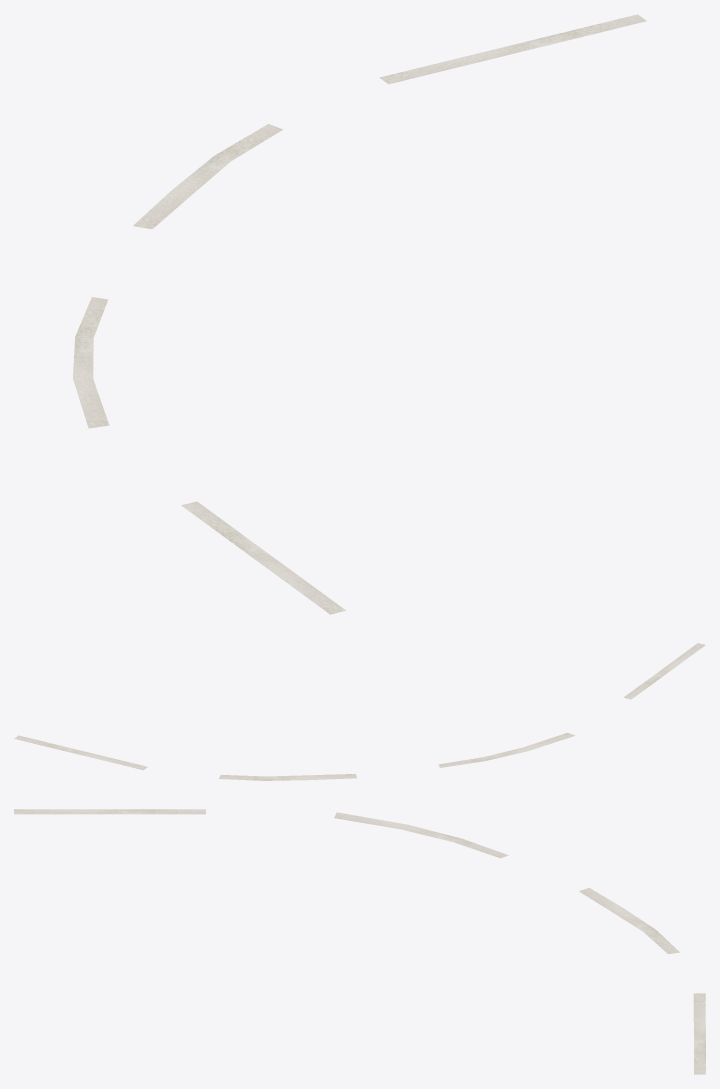
Rendered from a_SElaneC01.glb.
3 renders of one model, top to bottom at view 1: azimuth 30°, elevation 25°; view 2: azimuth 150°, elevation 25°; view 3: azimuth 270°, elevation 25°, orthographic. The views are drawn at different scales.
Visible parts, largest first — view 1: a_SElaneC01; view 2: a_SElaneC01; view 3: a_SElaneC01.
Part boxes in pixels (x1=…): a_SElaneC01: x1=73, y1=14, x2=646, y2=614; a_SElaneC01: x1=14, y1=643, x2=705, y2=780; a_SElaneC01: x1=14, y1=809, x2=705, y2=1074.
Size of the model in its own units: 9.64 by 7.15e-07 by 10.63.
Materials: 1 (1 with a texture image).
